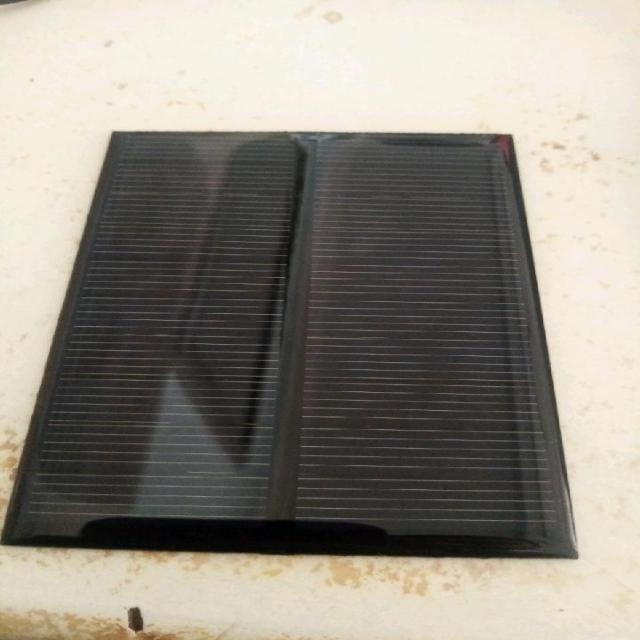no faulty: (53, 128, 529, 558)
